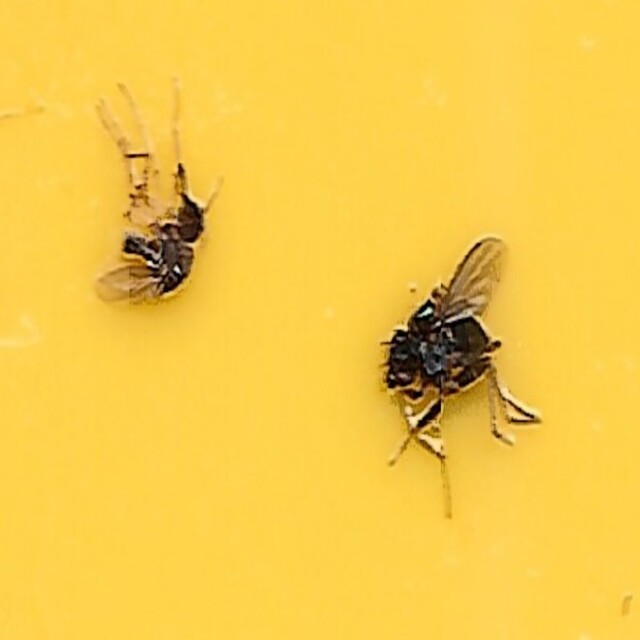Brachycera: (380, 239, 534, 463), (106, 177, 208, 308)
